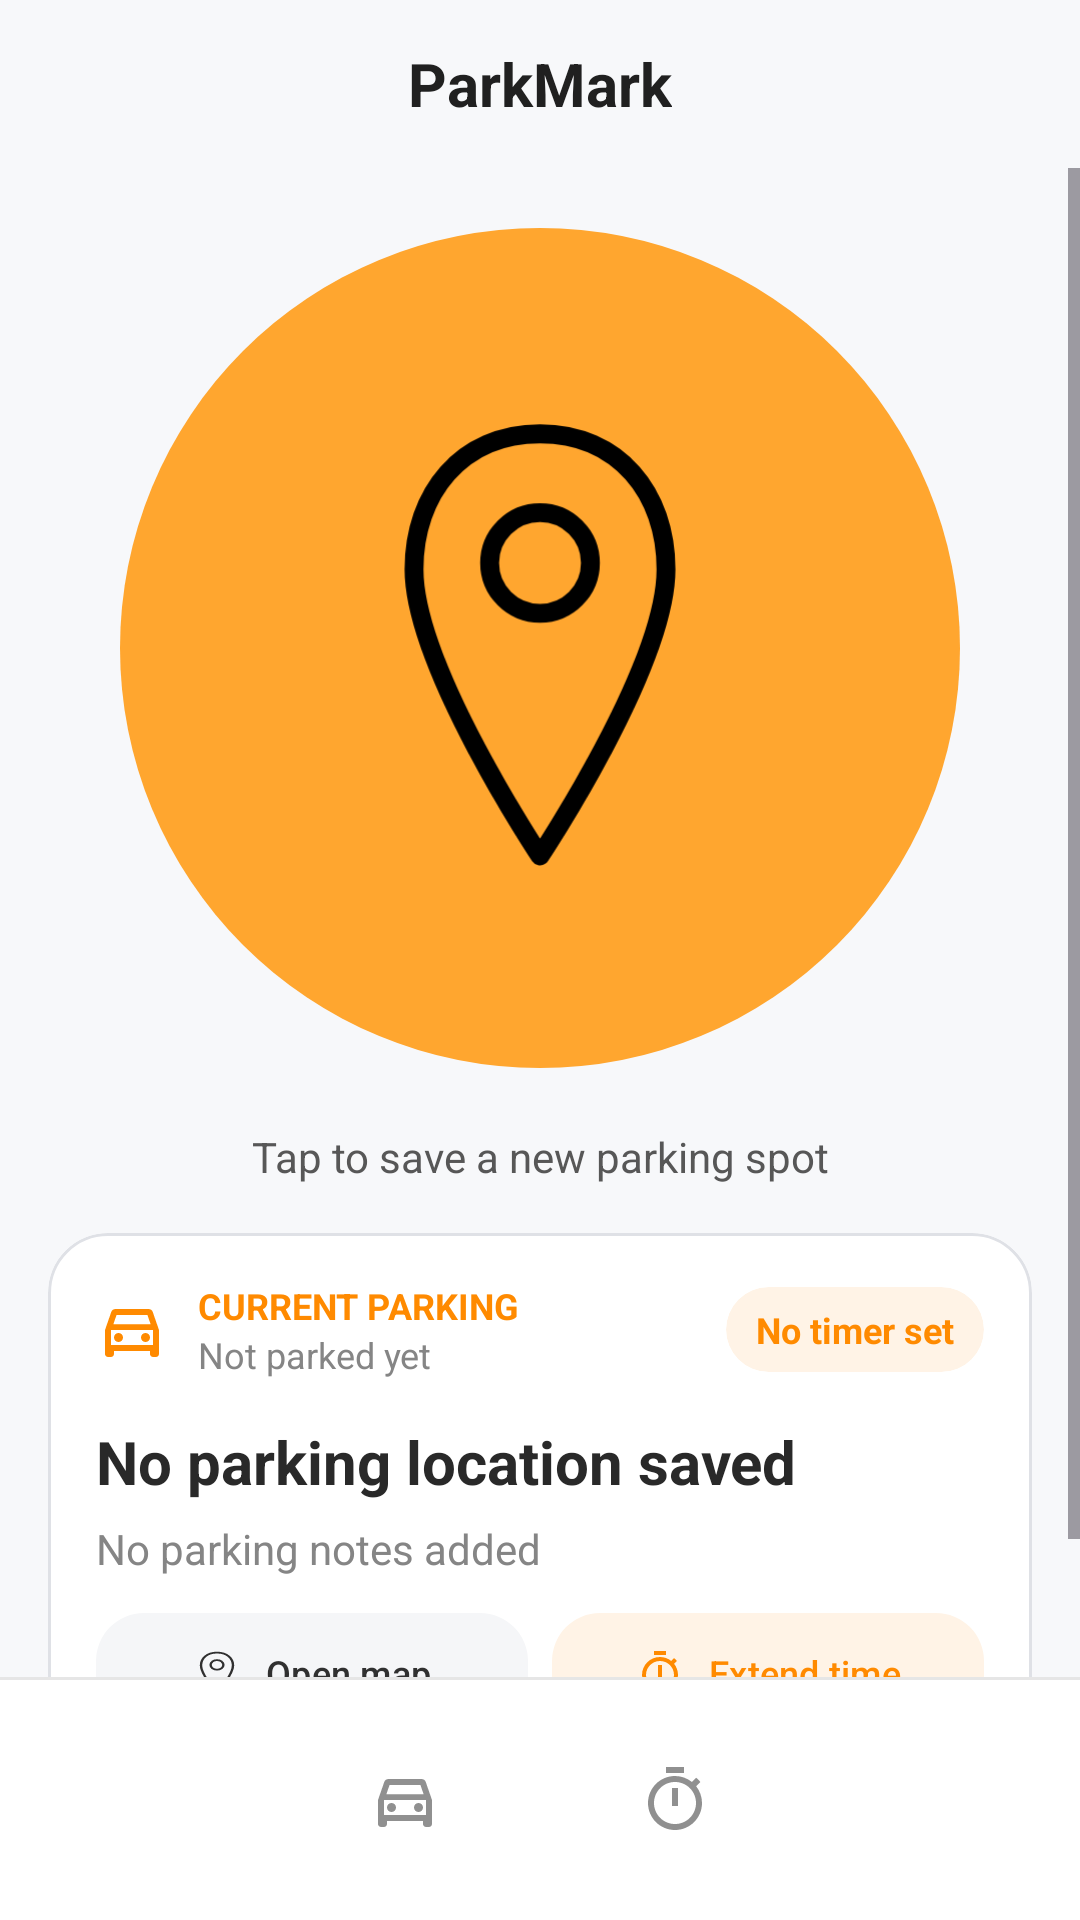

Screen size 1080w x 1920h. Icon name, then its box in pixels as (x1, y1, x2, y2):
car: (105, 1309, 159, 1357)
